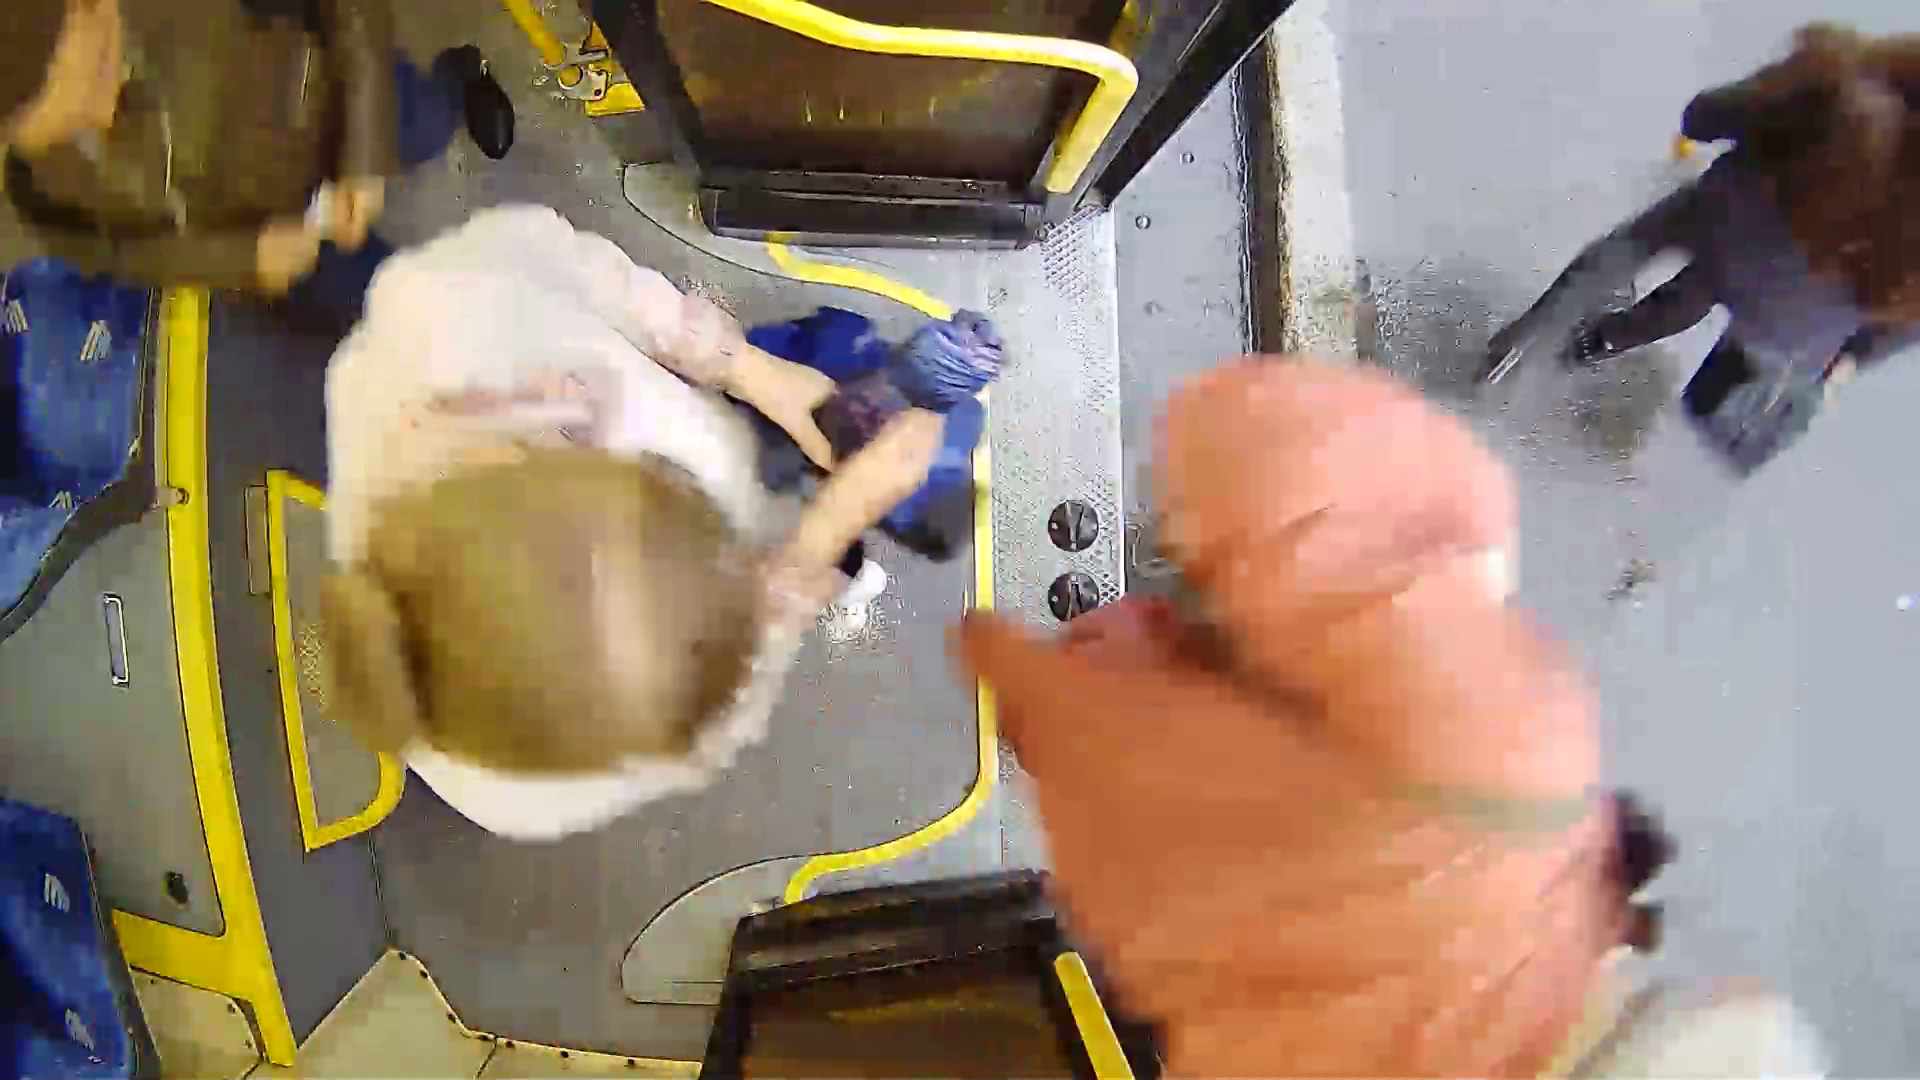person: (150, 155, 973, 854)
